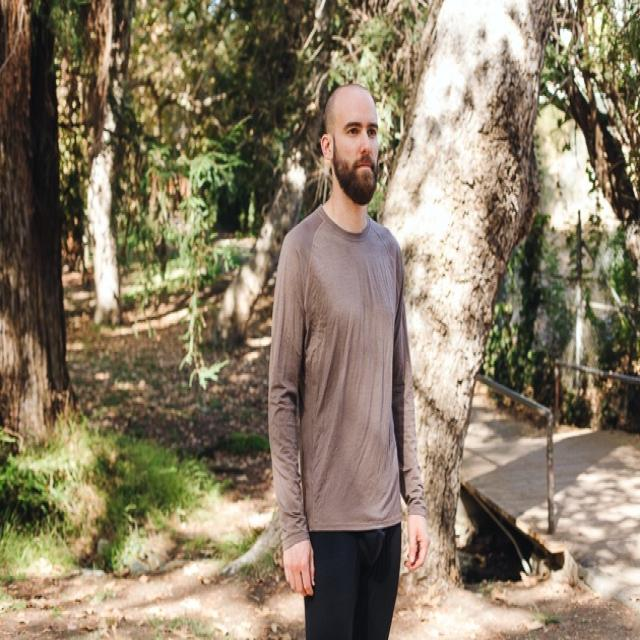human: (266, 78, 424, 640)
